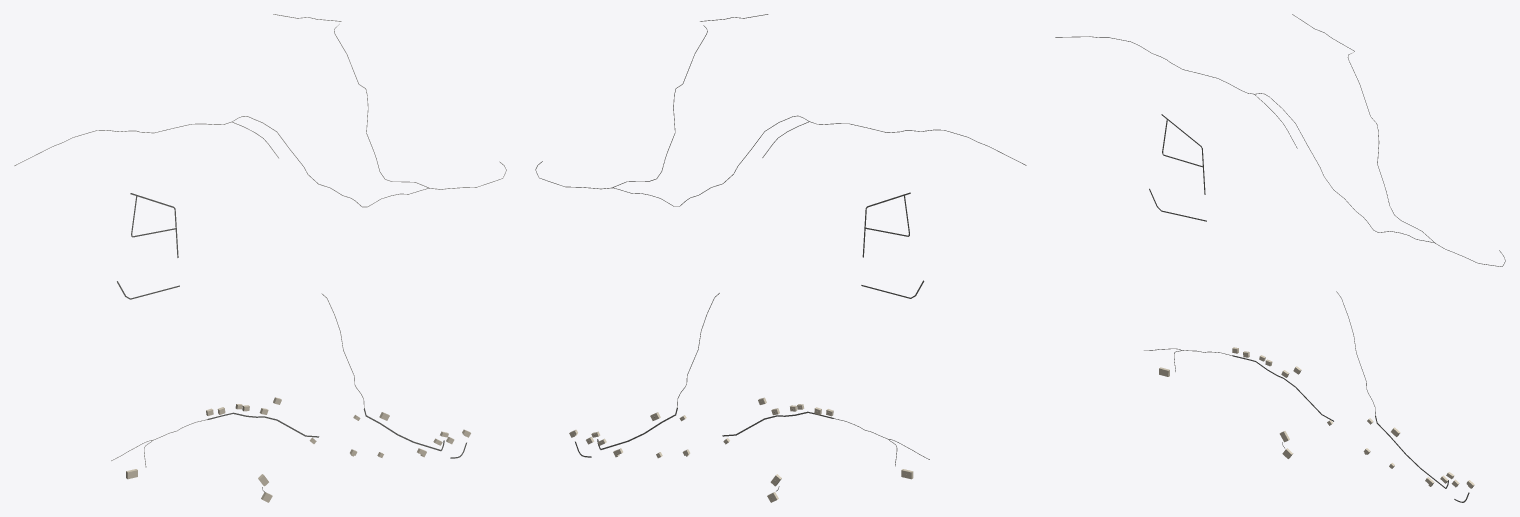
File: historic-palestine-09_25_3513_3191.glb
3 renders of one model, left to right at view 1: azimuth 30°, elevation 25°; view 2: azimuth 150°, elevation 25°; view 3: azimuth 330°, elevation 25°, orthographic. The views are drawn at different scales.
Size of the model in its own units: 1268 by 1204 by 8.7.
